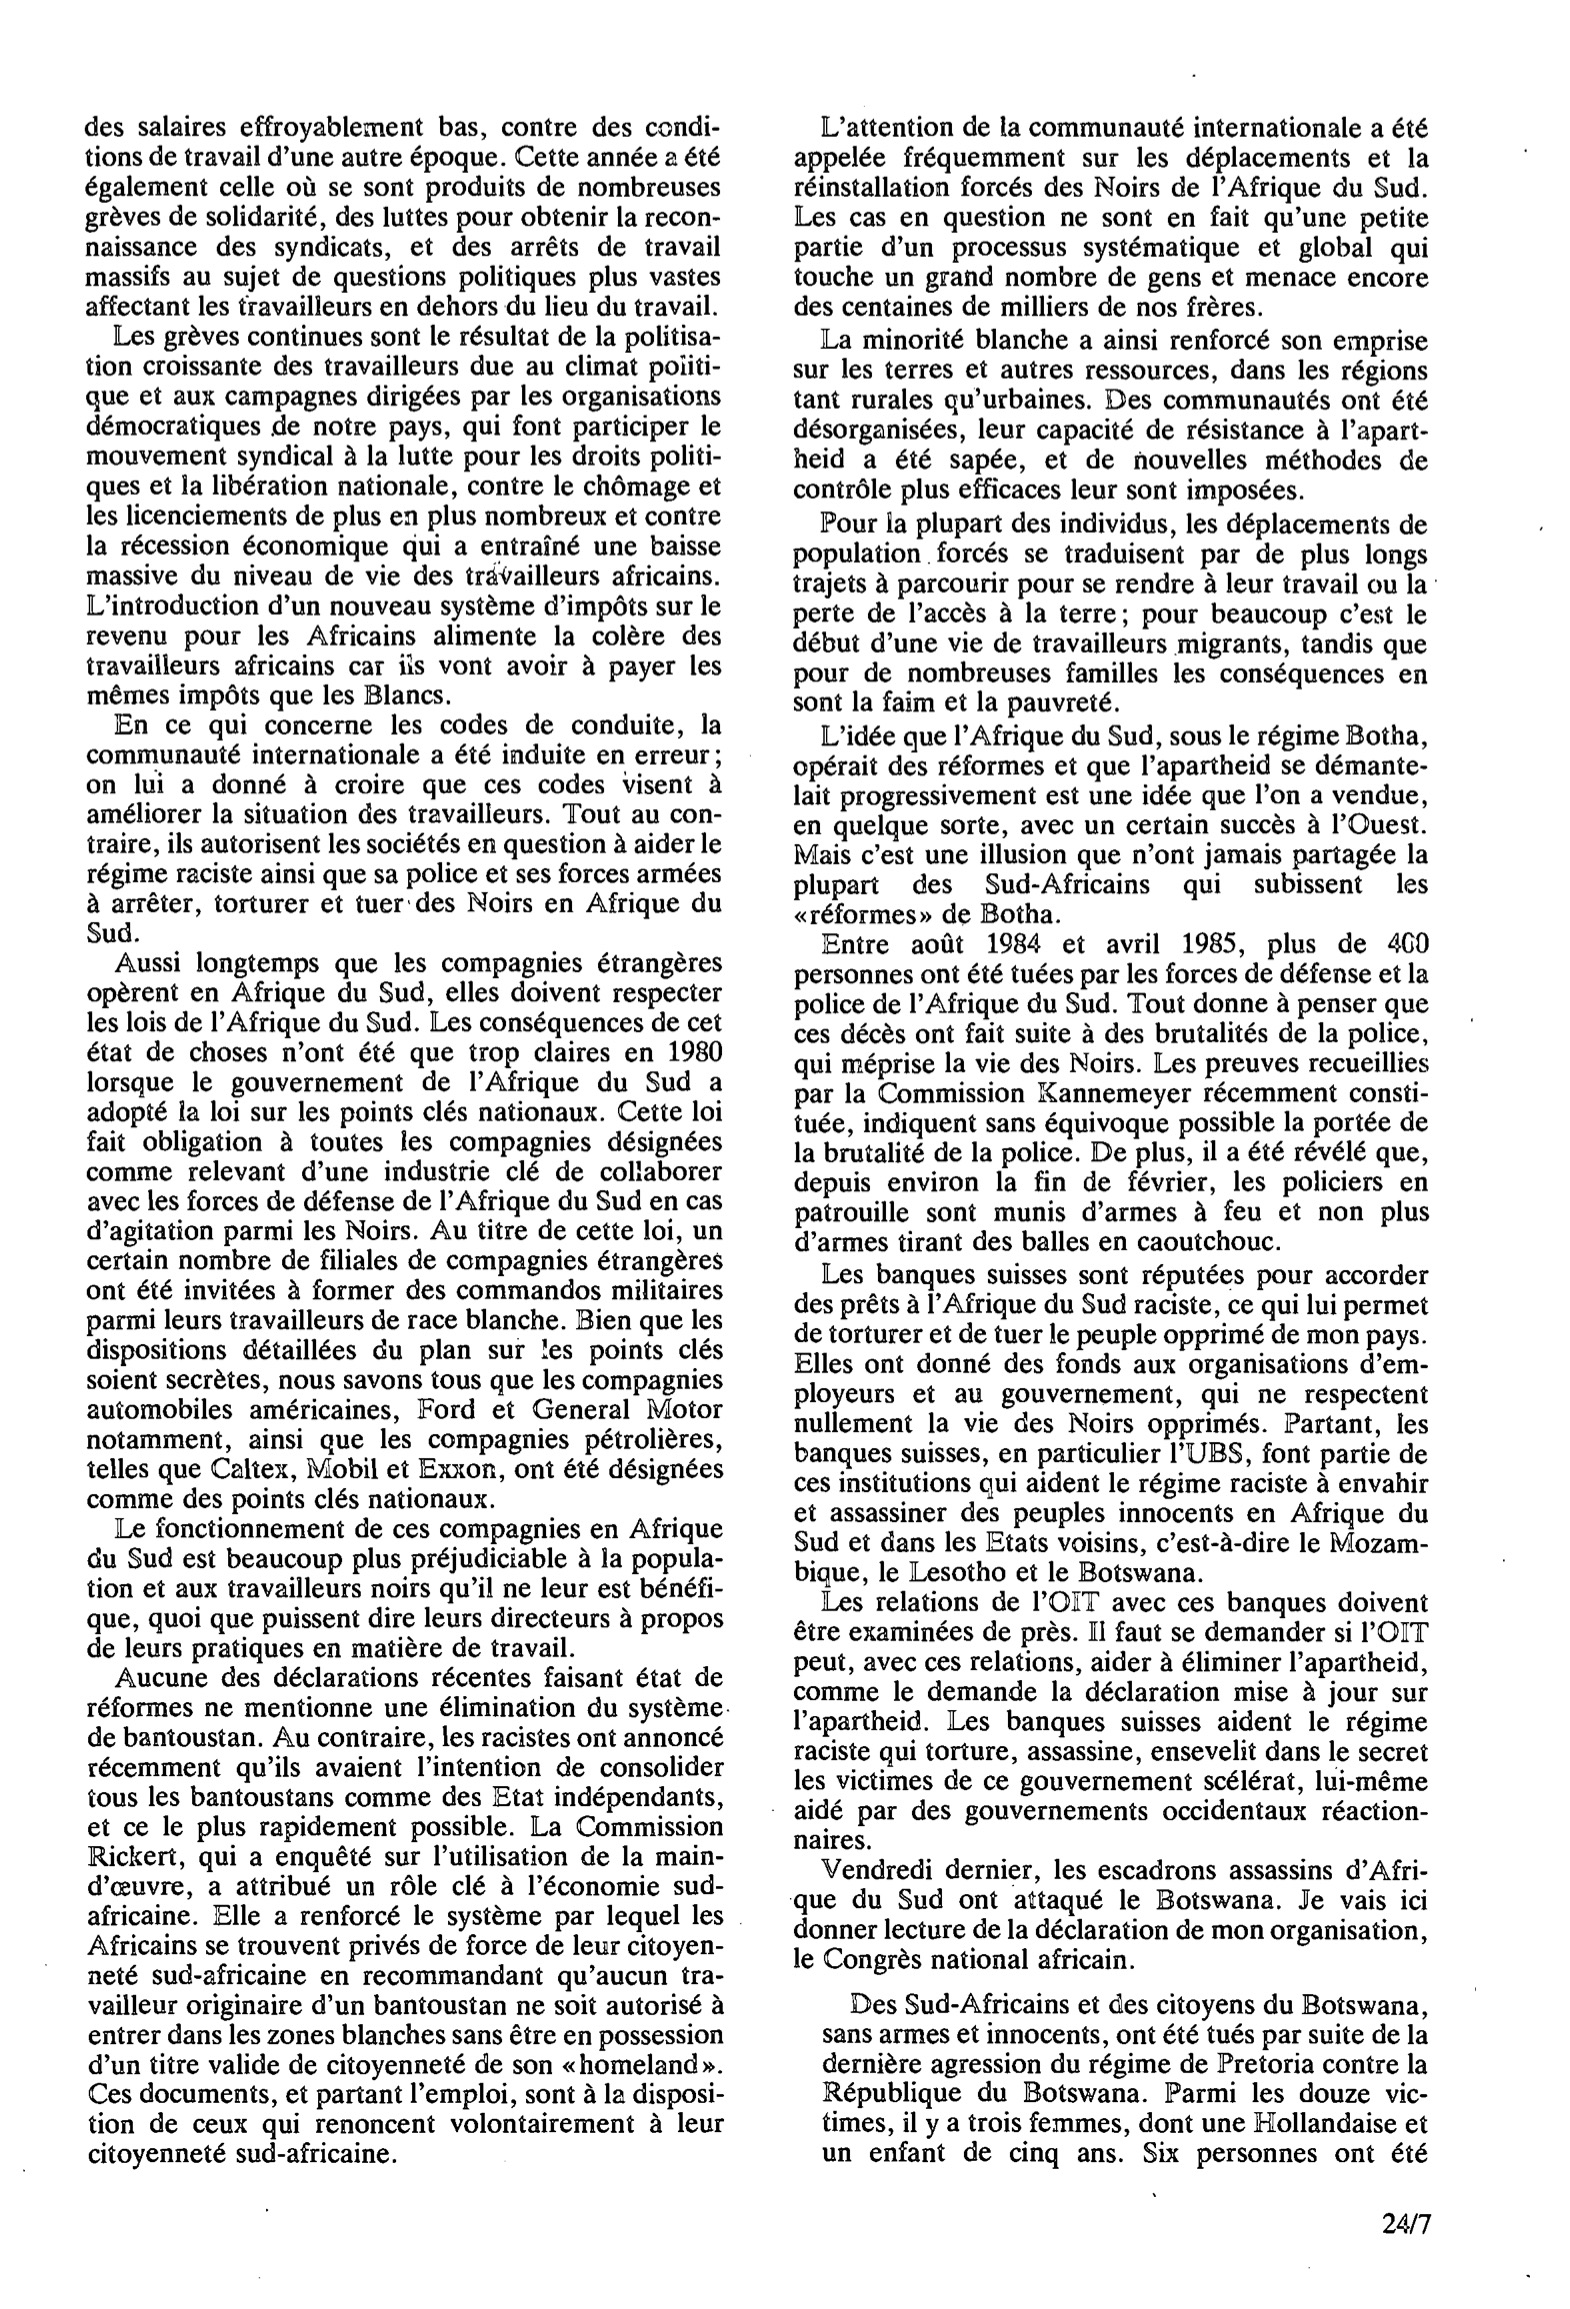MainZone-Continued: (74, 109, 727, 321)
MainZone-P: (79, 948, 731, 1512), (79, 1661, 731, 2171), (74, 321, 729, 708), (785, 927, 1435, 1258), (783, 1260, 1439, 1585), (785, 1587, 1433, 1852), (75, 710, 729, 944), (785, 109, 1435, 322), (783, 506, 1433, 718), (783, 718, 1437, 927), (804, 1987, 1433, 2176), (783, 324, 1433, 506), (75, 1514, 729, 1663), (785, 1854, 1435, 1980)
NumberingZone: (1372, 2204, 1437, 2244)
